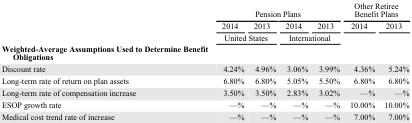table: (0, 0, 408, 120)
table column: (0, 0, 178, 120), (178, 0, 248, 120), (344, 0, 378, 120), (311, 0, 344, 120), (248, 0, 280, 120), (280, 0, 311, 120), (378, 0, 408, 120)
table column header: (0, 0, 408, 42)
table projected row header: (0, 42, 408, 62)
table row: (0, 42, 408, 62), (0, 0, 408, 19), (0, 19, 408, 31), (0, 62, 408, 74), (0, 74, 408, 86), (0, 86, 408, 98), (0, 98, 408, 110), (0, 31, 408, 42), (0, 110, 408, 120)
table spanning cell: (178, 0, 344, 19), (344, 0, 408, 19), (178, 31, 280, 42), (344, 19, 378, 42), (280, 31, 344, 42), (378, 19, 408, 42)
